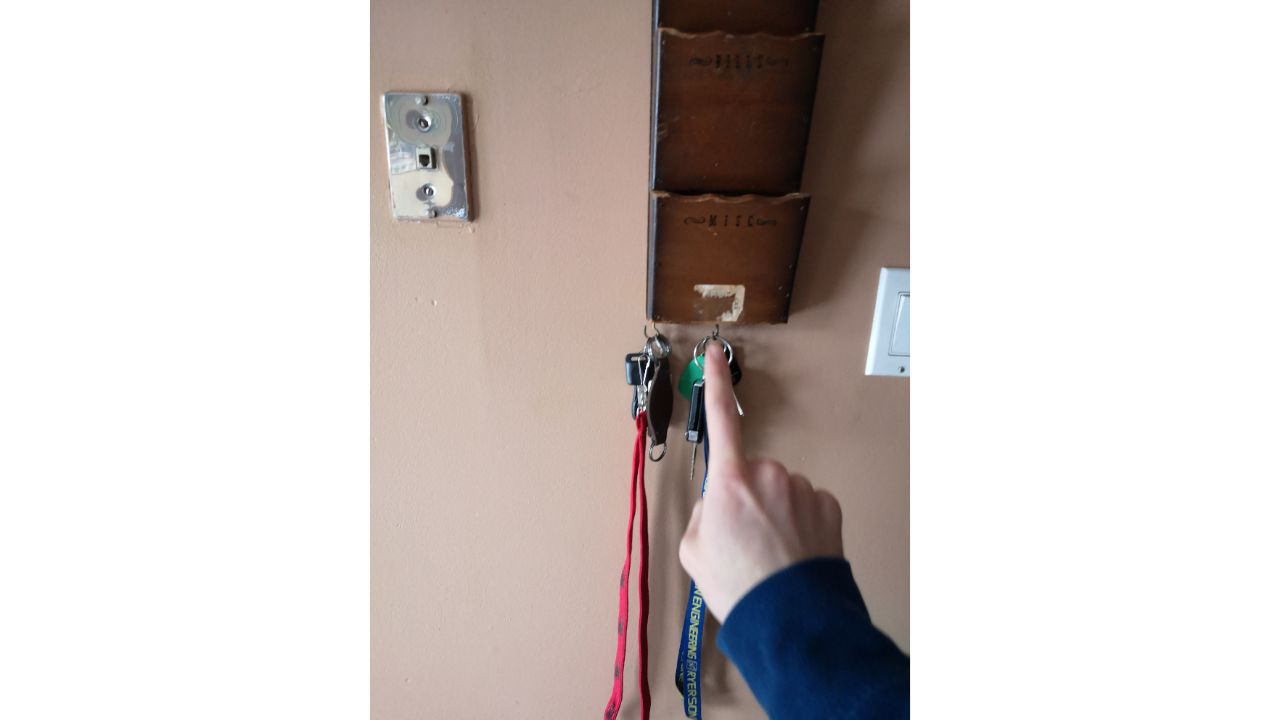finger: (675, 341, 857, 626)
